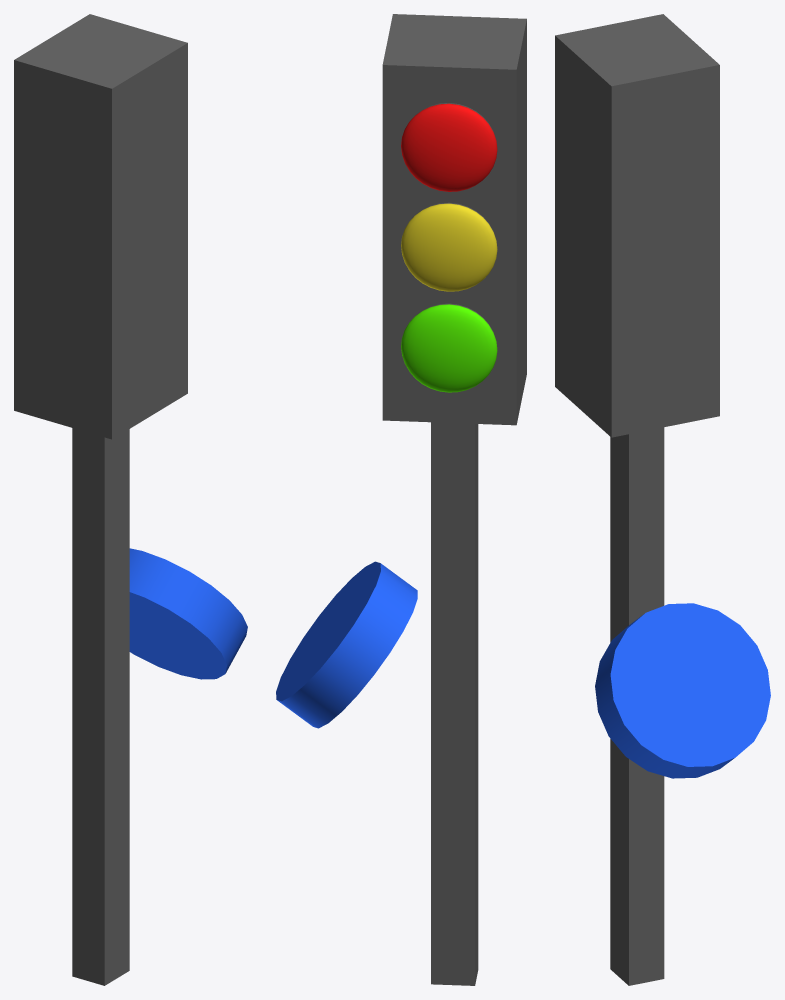
Rendered from 20250212-TrafficLight (SetActive).glb.
The picture shows the model from 3 angles, left to right: view 1: azimuth 30°, elevation 25°; view 2: azimuth 150°, elevation 25°; view 3: azimuth 270°, elevation 25°; orthographic projection.
Visible parts, largest first — view 1: Cube, Cube (1), Cylinder; view 2: Cube, Cube (1), Cylinder, Bottom, Middle, Top; view 3: Cube, Cylinder, Cube (1).
Part boxes in pixels (x1,y1,x2,y2): Cube: [14, 14, 187, 439]; Cube (1): [72, 428, 129, 985]; Cylinder: [129, 548, 247, 679]; Cube: [382, 14, 526, 425]; Cube (1): [431, 422, 478, 985]; Cylinder: [276, 561, 417, 728]; Bottom: [401, 304, 497, 392]; Middle: [401, 203, 497, 291]; Top: [401, 103, 497, 191]; Cube: [555, 14, 719, 437]; Cylinder: [595, 603, 770, 778]; Cube (1): [610, 427, 664, 985].
Size of the model in its own units: 1.11 by 4.37 by 0.9264.
